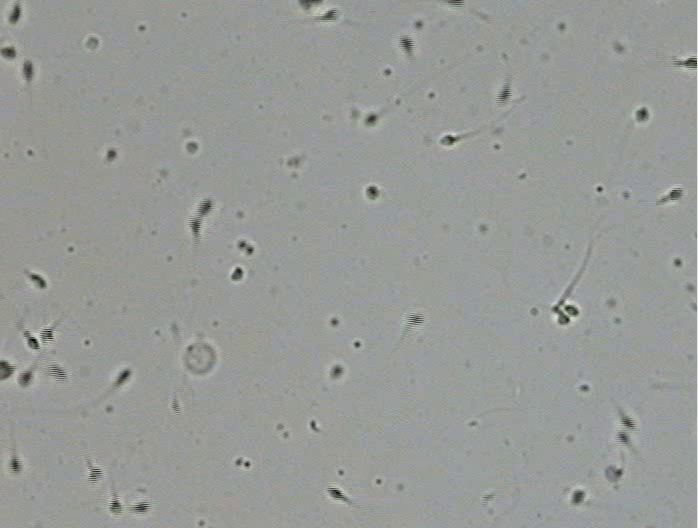Impurity: (183, 342, 216, 374), (85, 37, 99, 49)
S: (49, 364, 67, 383), (23, 330, 40, 349), (605, 465, 624, 482), (7, 3, 22, 24), (197, 198, 214, 216), (115, 368, 131, 386), (496, 87, 512, 105), (39, 327, 54, 346), (108, 497, 123, 516), (619, 416, 638, 431), (188, 216, 202, 236), (1, 360, 15, 380), (30, 273, 47, 289), (87, 467, 103, 484), (17, 370, 33, 386), (22, 61, 34, 82), (676, 57, 697, 69), (399, 36, 414, 52), (407, 312, 424, 326), (8, 457, 21, 475), (635, 107, 650, 122), (130, 502, 150, 513), (297, 1, 323, 9), (231, 266, 244, 281), (668, 188, 683, 201), (572, 490, 585, 505), (1, 47, 17, 59), (440, 134, 456, 146), (365, 186, 379, 199), (616, 431, 629, 445), (322, 9, 338, 20), (564, 305, 579, 316), (105, 148, 117, 161), (365, 113, 378, 125), (327, 488, 342, 498), (186, 142, 199, 153), (332, 365, 342, 377), (558, 314, 570, 324), (448, 1, 465, 8)
